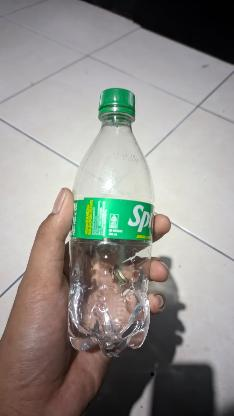Plastic Bottle: (67, 84, 155, 358)
